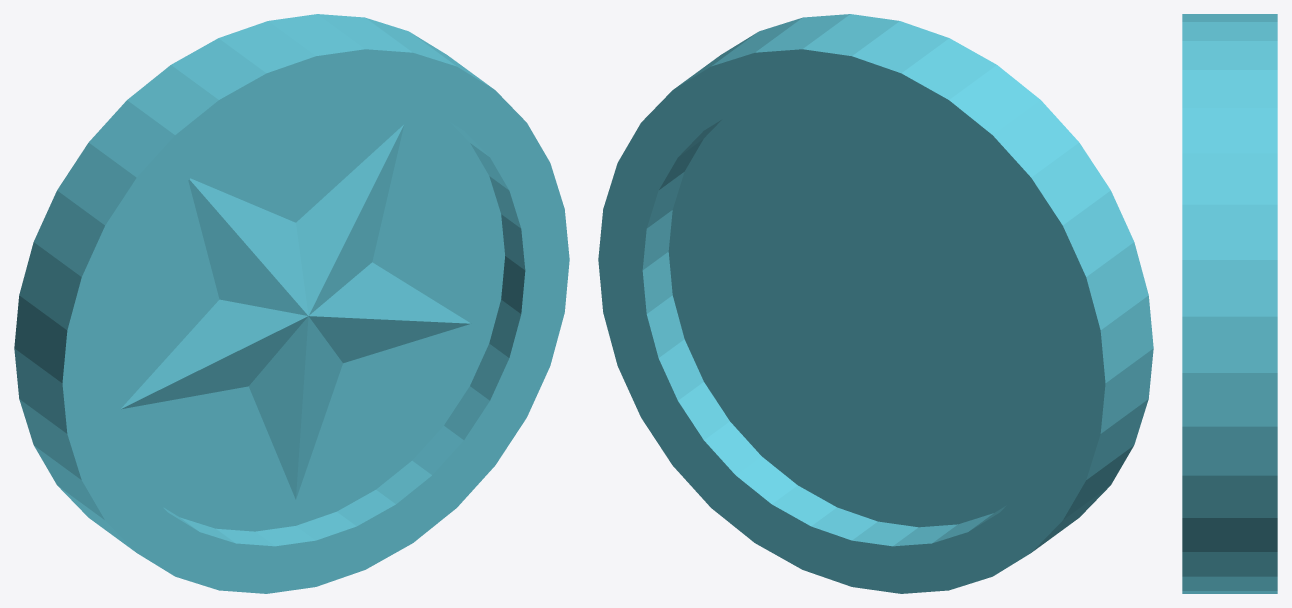
Rendered from Copia de moneda.glb.
The picture shows the model from 3 angles, left to right: view 1: azimuth 30°, elevation 25°; view 2: azimuth 150°, elevation 25°; view 3: azimuth 270°, elevation 25°; orthographic projection.
Visible parts, largest first — view 1: Cylinder, Circle; view 2: Cylinder; view 3: Cylinder.
Part boxes in pixels (bbox=[...]): Cylinder: bbox=[14, 14, 569, 593]; Circle: bbox=[121, 124, 470, 499]; Cylinder: bbox=[598, 14, 1153, 593]; Cylinder: bbox=[1182, 14, 1277, 593].
Size of the model in its own units: 2 by 2 by 0.3289.
